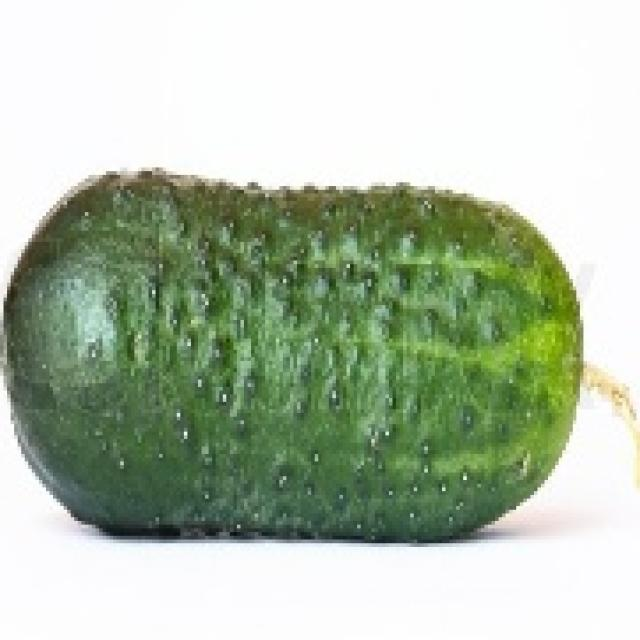cucumber: (0, 159, 583, 543)
